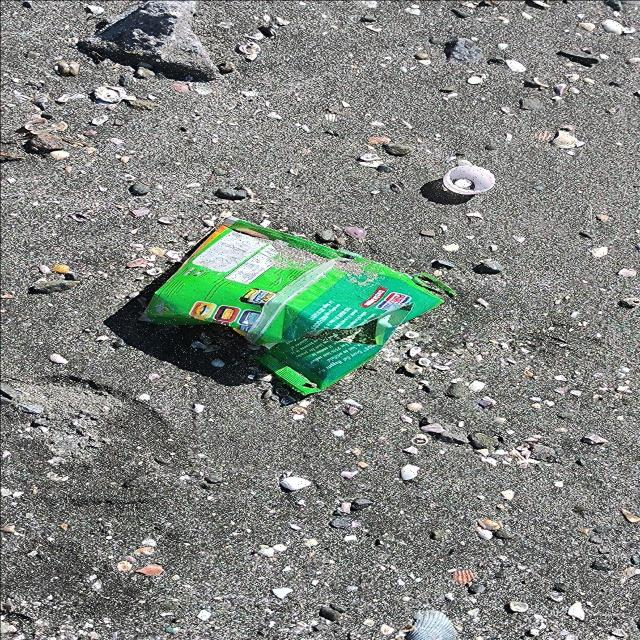plastic_waste: (138, 217, 446, 397)
